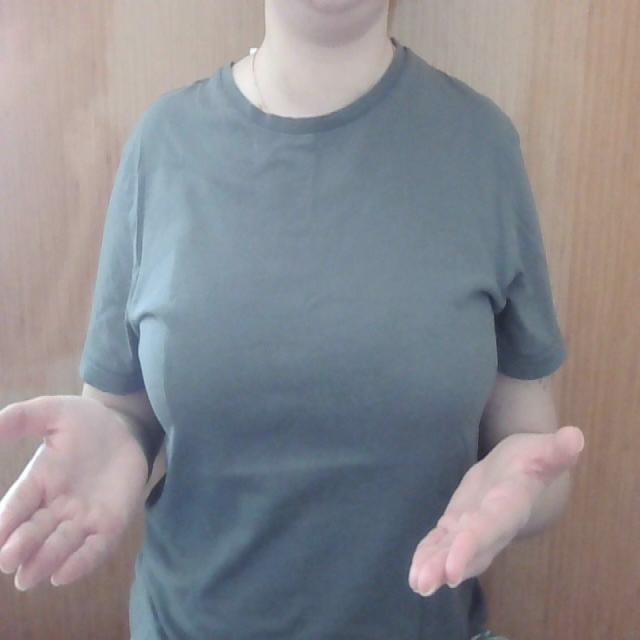Evet: (0, 390, 588, 604)
